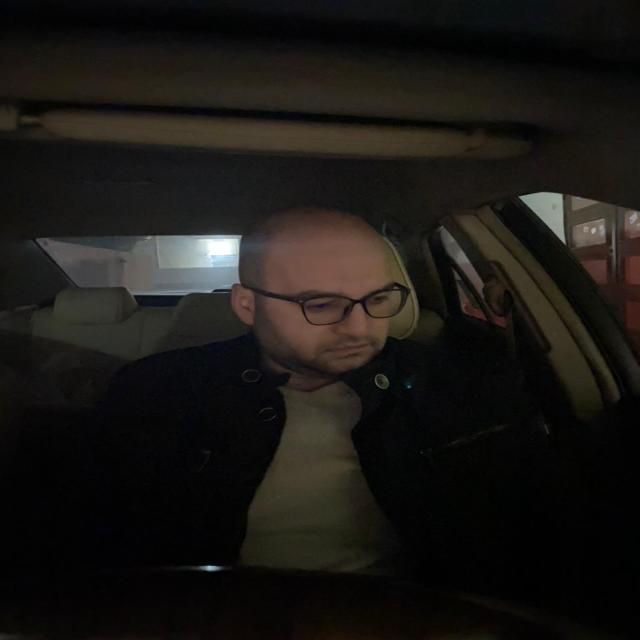person: (221, 202, 423, 380)
